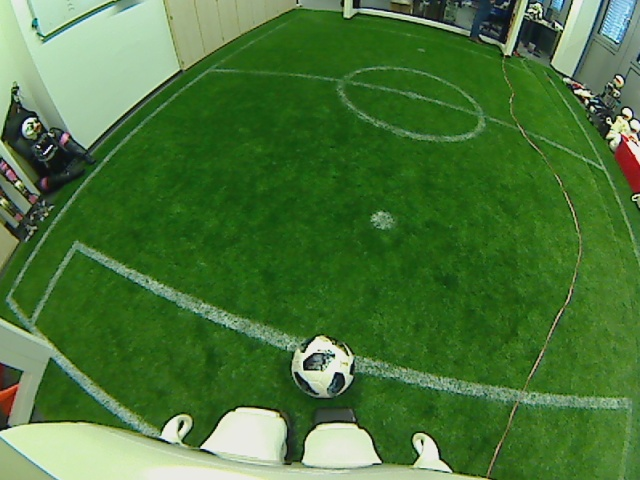ball: (291, 333, 356, 400)
